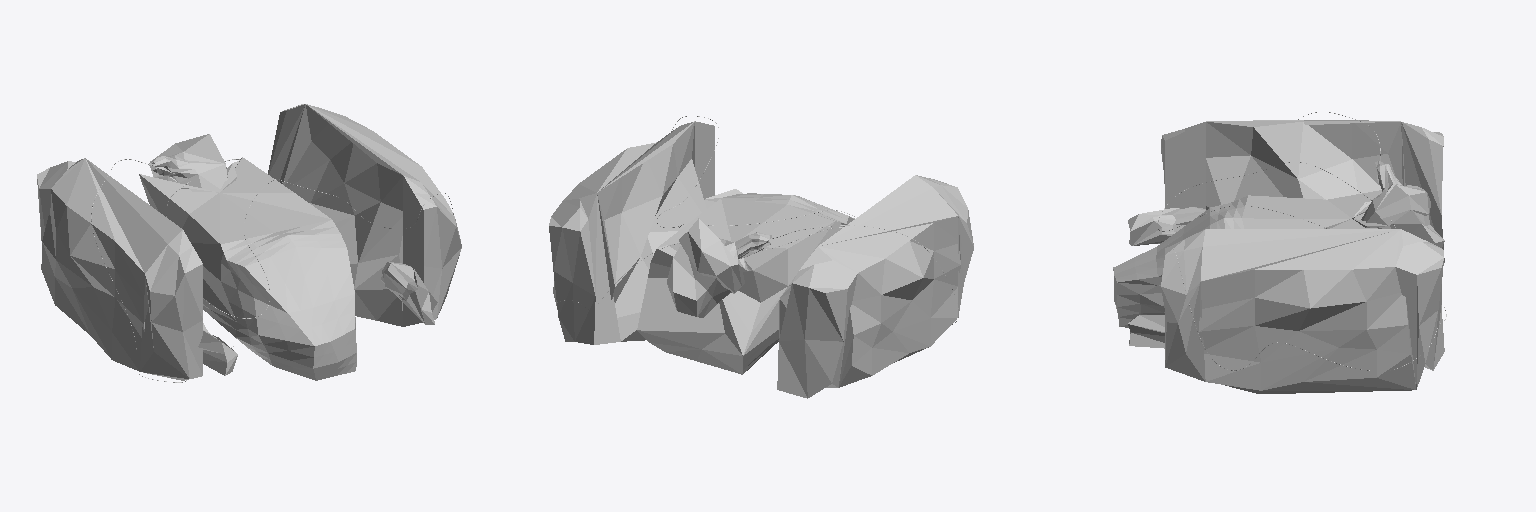
File: Veins3.obj
The picture shows the model from 3 angles: view 1: azimuth 30°, elevation 25°; view 2: azimuth 150°, elevation 25°; view 3: azimuth 270°, elevation 25°; orthographic projection.
Visible parts, largest first — view 1: Plane, Cube, Cube.001, HeartTop, Cube.003, Cube.002; view 2: Cube, Cube.001, Plane, HeartTop, Heart; view 3: Cube.001, Cube, Plane, HeartTop, Cube.002, Cube.003, Heart.
Part boxes in pixels (left/top/right/bottom): Plane: left=139, top=157, right=356, bottom=380; Cube: left=37, top=158, right=202, bottom=380; Cube.001: left=268, top=104, right=461, bottom=326; HeartTop: left=149, top=134, right=227, bottom=191; Cube.003: left=381, top=262, right=437, bottom=324; Cube.002: left=198, top=323, right=237, bottom=375; Cube: left=777, top=175, right=973, bottom=398; Cube.001: left=549, top=121, right=714, bottom=344; Plane: left=637, top=193, right=854, bottom=374; HeartTop: left=679, top=218, right=771, bottom=293; Heart: left=667, top=245, right=731, bottom=317; Cube.001: left=1161, top=229, right=1444, bottom=393; Cube: left=1161, top=120, right=1444, bottom=262; Plane: left=1113, top=185, right=1411, bottom=327; HeartTop: left=1361, top=161, right=1430, bottom=225; Cube.002: left=1128, top=207, right=1205, bottom=245; Cube.003: left=1128, top=315, right=1164, bottom=348; Heart: left=1390, top=210, right=1444, bottom=247.
Bounding box in the file's own units: 18.3 × 8.65 × 15.47.